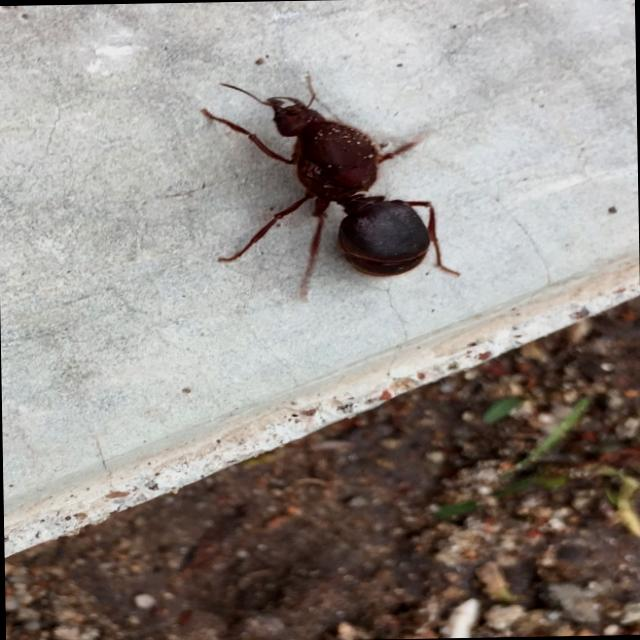Alive-Female-Dealate: (200, 79, 460, 304)
